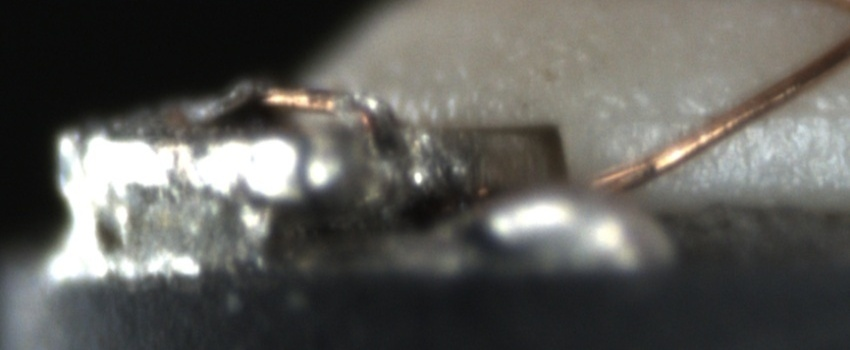DL: (641, 88, 849, 145)
TE: (227, 84, 386, 127)
